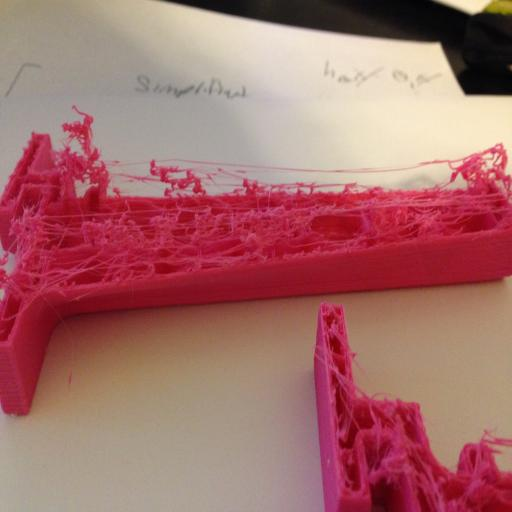stringing: (64, 106, 507, 232), (352, 382, 414, 488), (455, 427, 512, 510), (10, 200, 60, 277)
